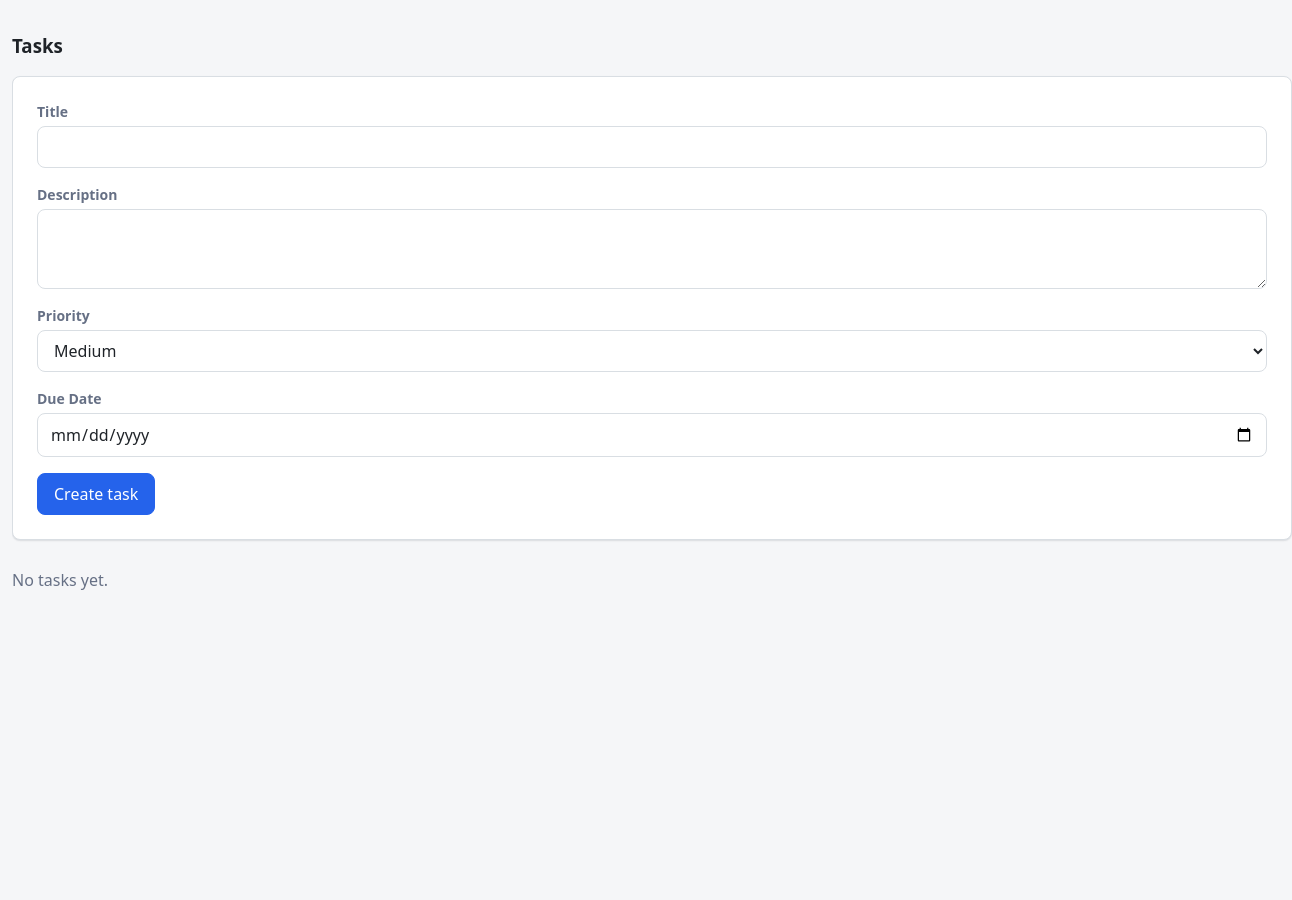
it: TasksSection › shows a generic fallback message for a non-field create error
Expected: the text "No tasks yet." is shown, [12,569,108,591]
Type "Write spec" into the field labelled "Title" at (652, 147), box [37,126,1267,168]
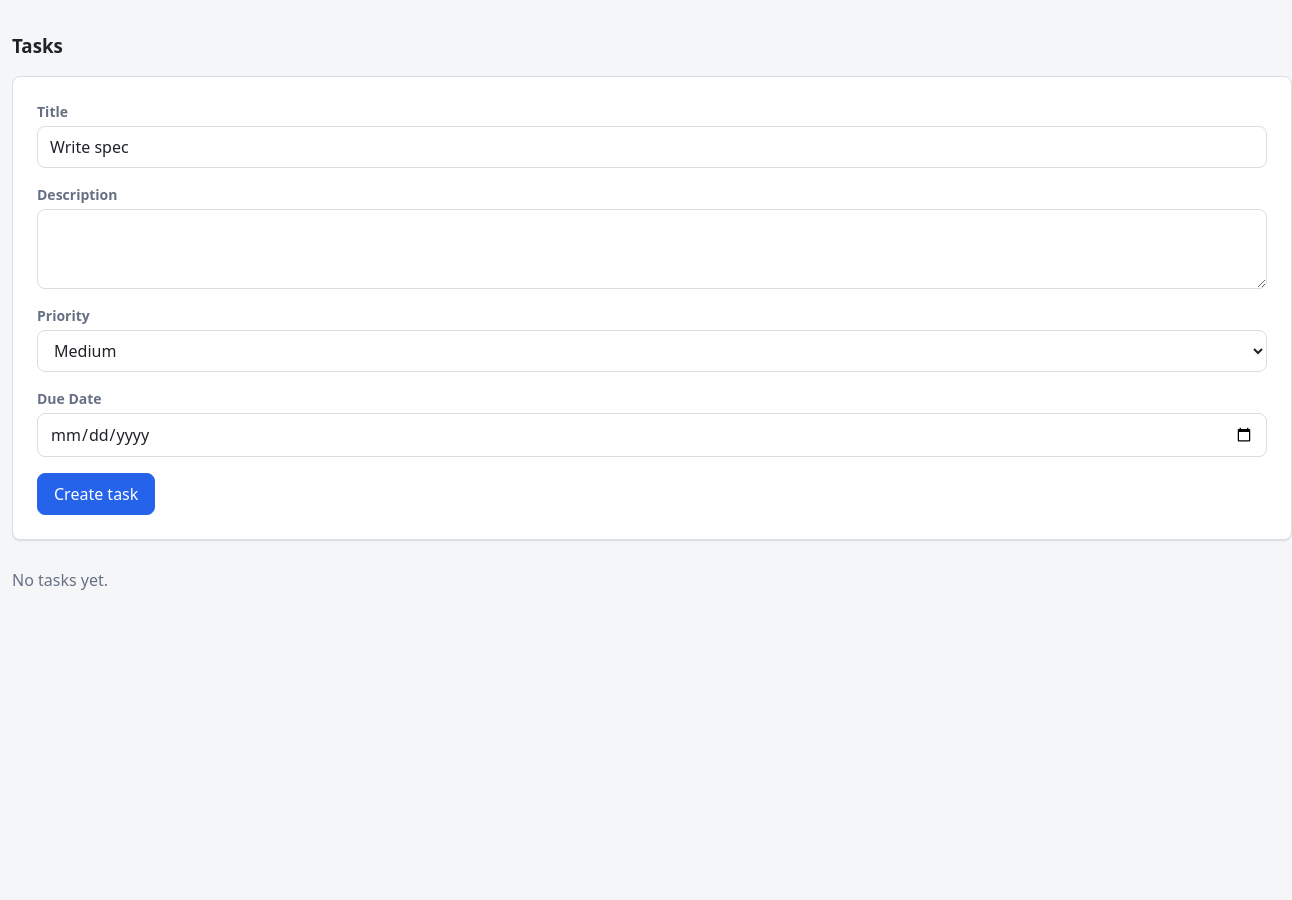
Click the button "Create task" at (96, 494), box [37,473,155,515]
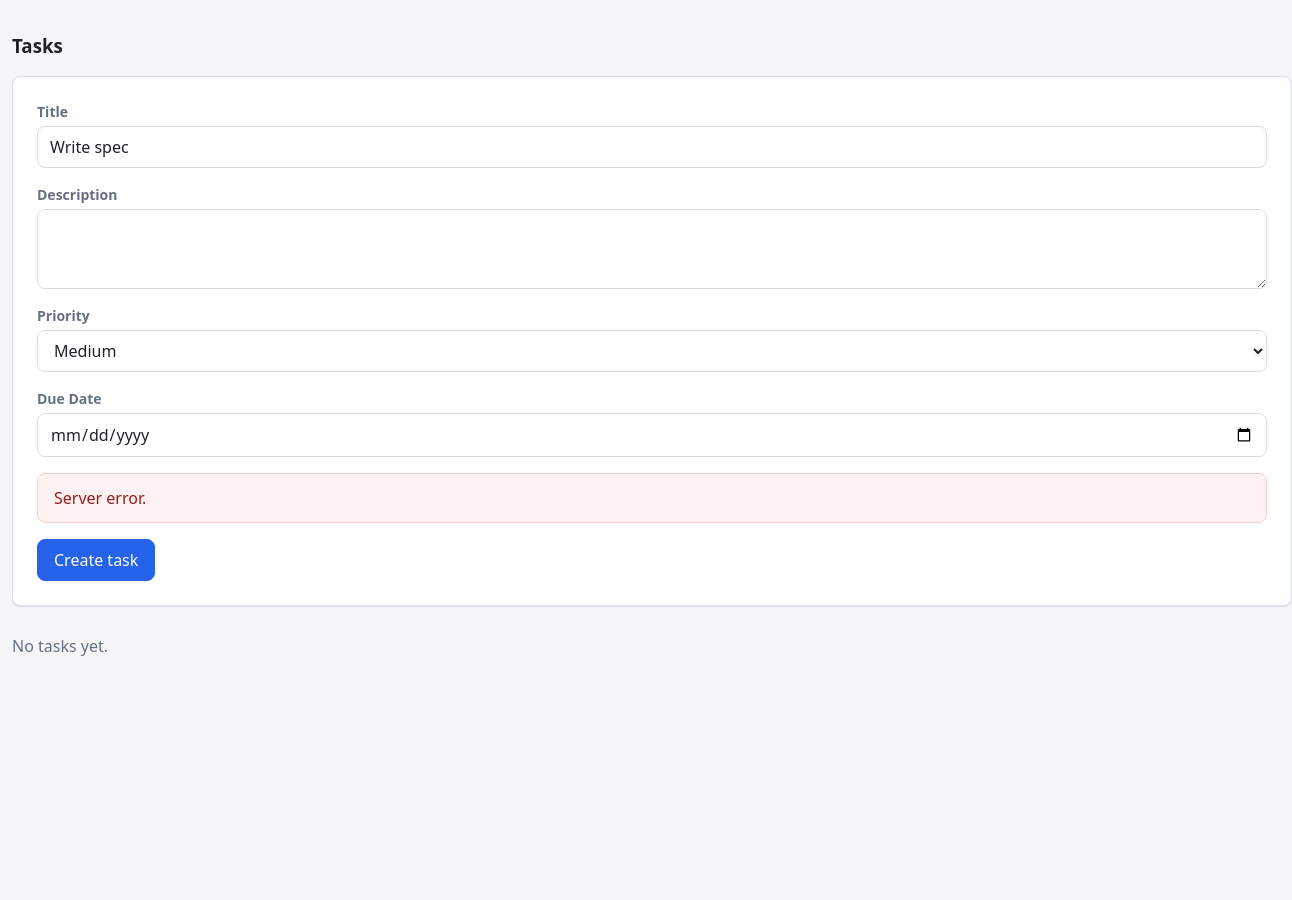
Expected: the message reads "Server error.", [54,487,146,509]
